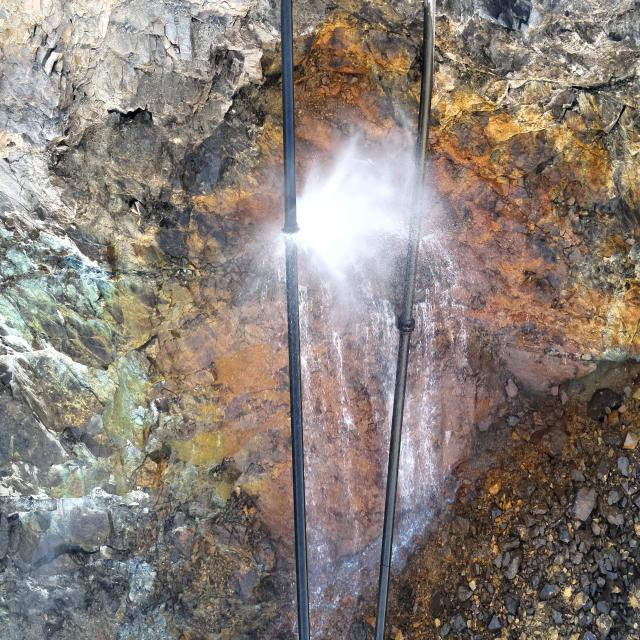leak: (207, 98, 501, 640)
